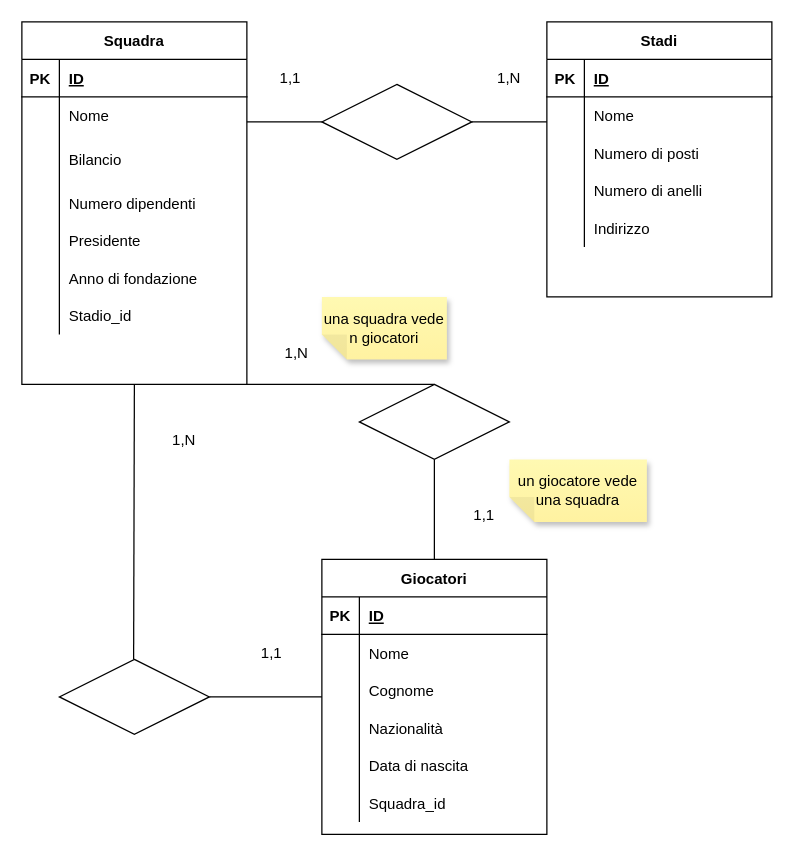
Some shapes in this 794 by 856 pixel diagram are drawn without their labels. The centre of each missing label's shape, as x and y in pixels:
Appartenenza: (x=396, y=121)
Contratto: (x=133, y=696)
Relationship: (x=433, y=421)
